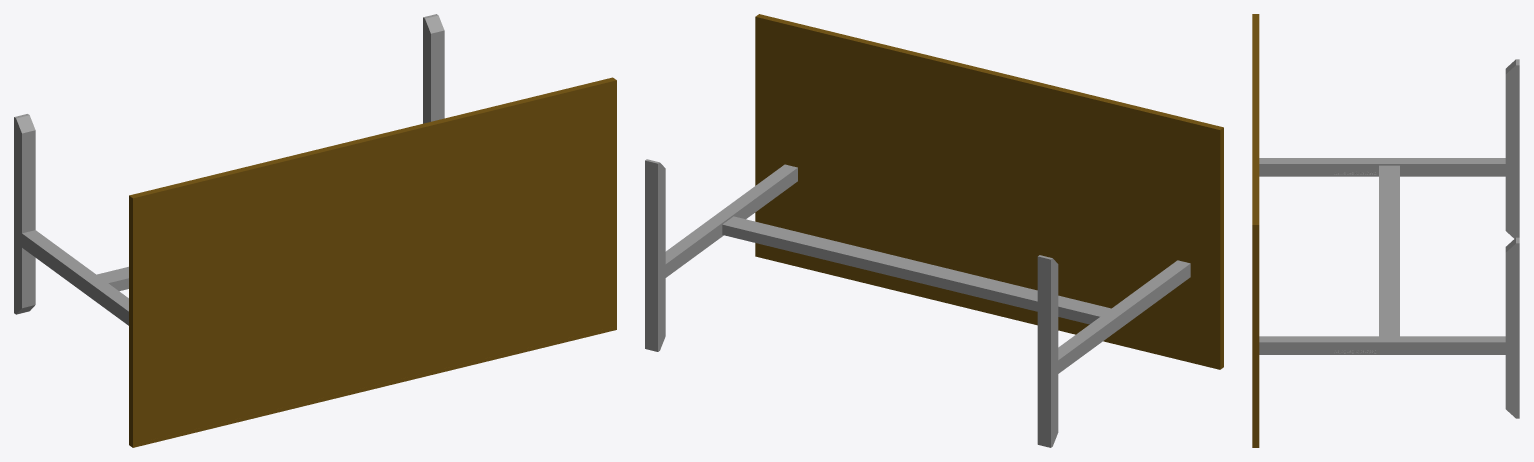
File: computer tables v9_benbu.fbx
The picture shows the model from 3 angles, left to right: view 1: azimuth 30°, elevation 25°; view 2: azimuth 150°, elevation 25°; view 3: azimuth 270°, elevation 25°; orthographic projection. The views are drawn at different scales.
Parts seen in each view (by area): view 1: Body1 (×4); view 2: Body1 (×6); view 3: Body1 (×6).
Part boxes in pixels (x1,y1,x2,y2): Body1 (×4): (14, 14, 616, 447); Body1 (×6): (645, 14, 1223, 447); Body1 (×6): (1252, 14, 1519, 447).
Size of the model in its own units: 71 by 35 by 38.
